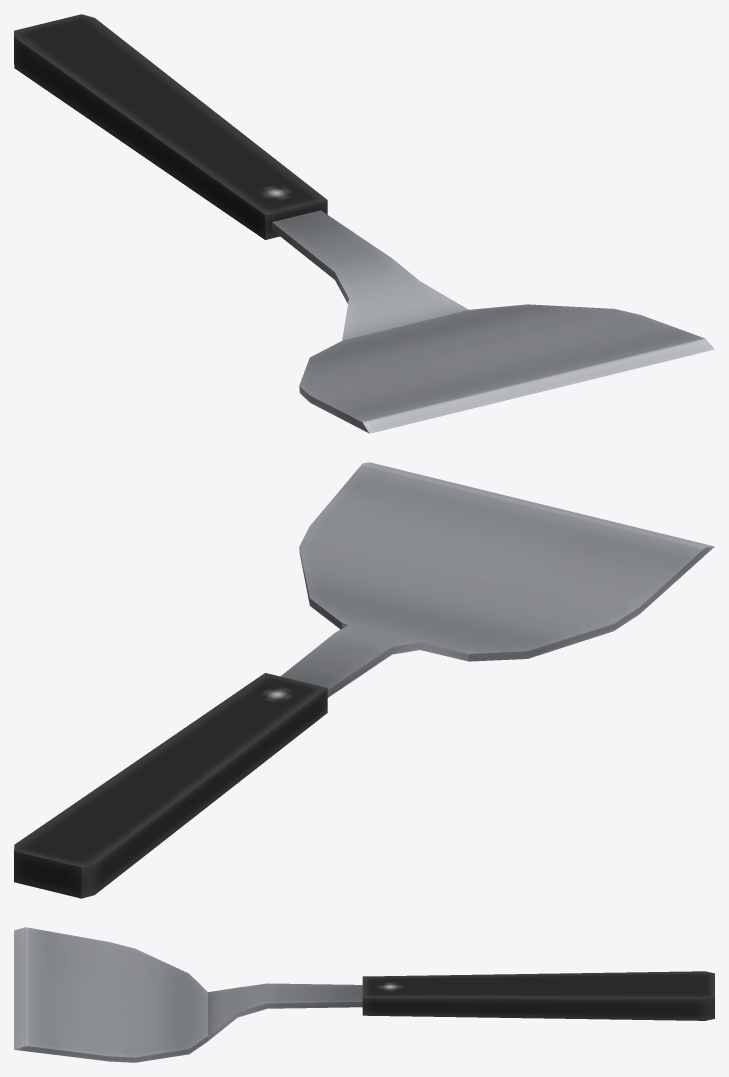
The model's file is jsf_Spatula_01.fbx.
The picture shows the model from 3 angles, top to bottom: view 1: azimuth 30°, elevation 25°; view 2: azimuth 150°, elevation 25°; view 3: azimuth 270°, elevation 25°; orthographic projection. The views are drawn at different scales.
Parts seen in each view (by area): view 1: jsf_Spatula_01; view 2: jsf_Spatula_01; view 3: jsf_Spatula_01.
Part boxes in pixels (<box>): jsf_Spatula_01: <box>14,14,714,433</box>; jsf_Spatula_01: <box>14,462,714,898</box>; jsf_Spatula_01: <box>14,927,714,1062</box>.
Size of the model in its own units: 15 by 2.02 by 37.22.
